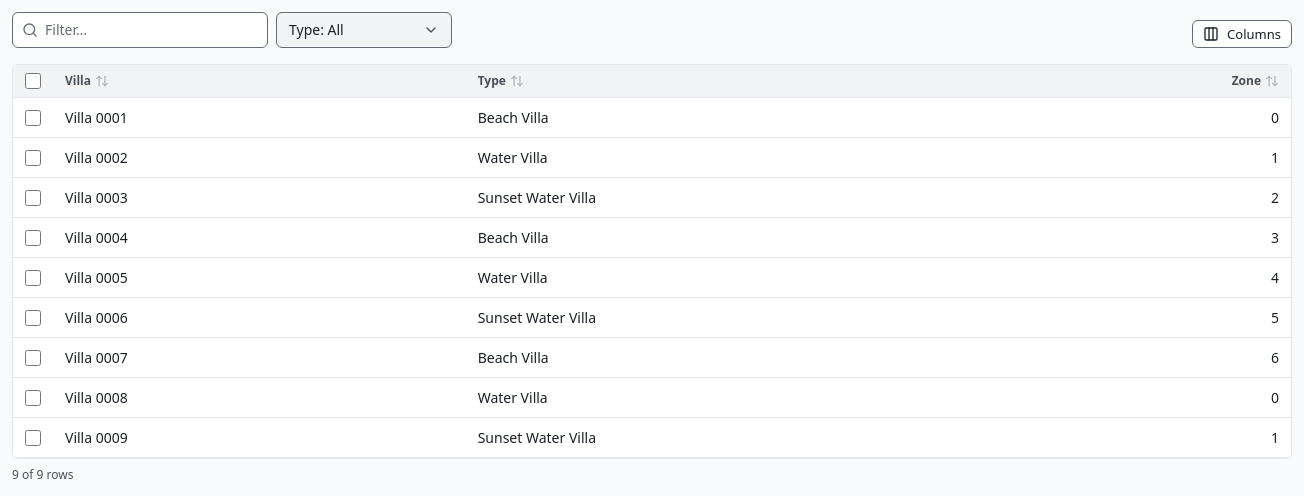
Test: DataTable › select-all selects only the rows shown by the current filter
Type "Sunset" into the search field named "Filter rows" at coordinates (140, 30), box [12,12,268,48]
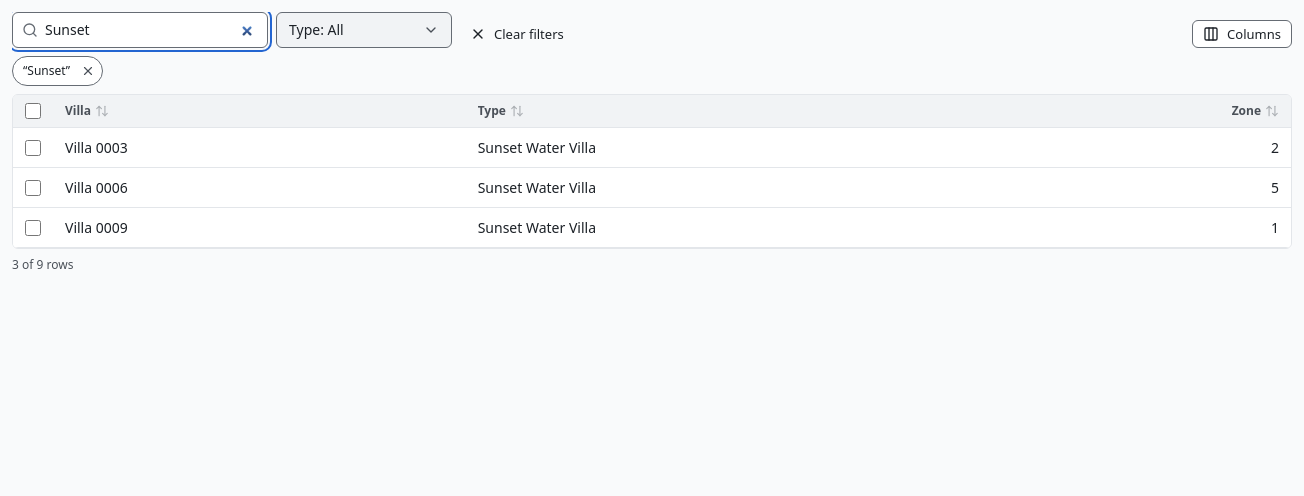
Click the checkbox named "Select all shown rows" at coordinates (33, 111), box [25,103,41,119]
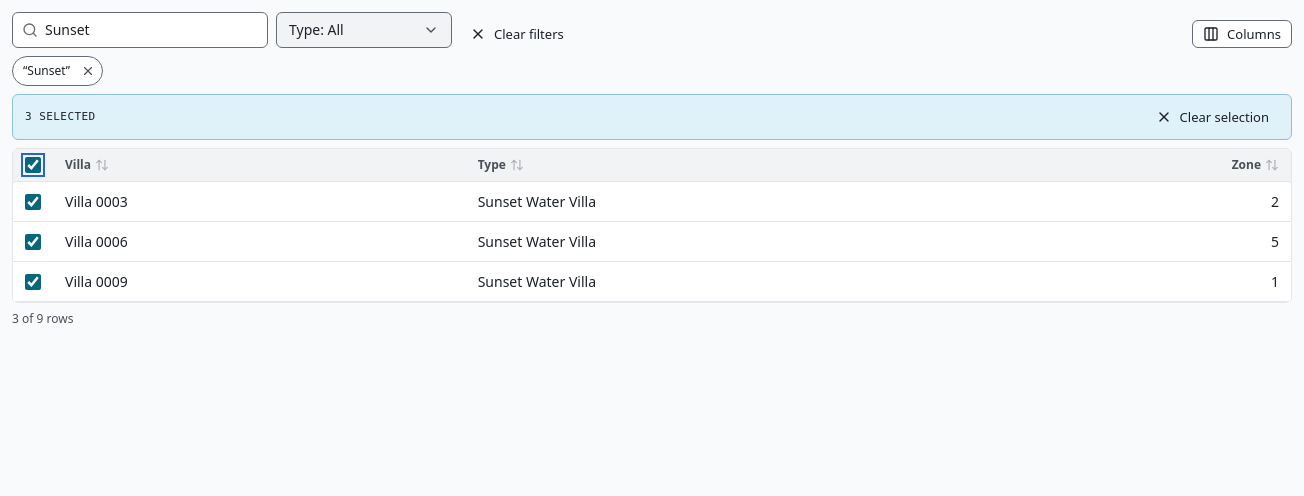
Check: the element named "Actions for selected rows" shows "3 selected", box [25,110,96,123]
